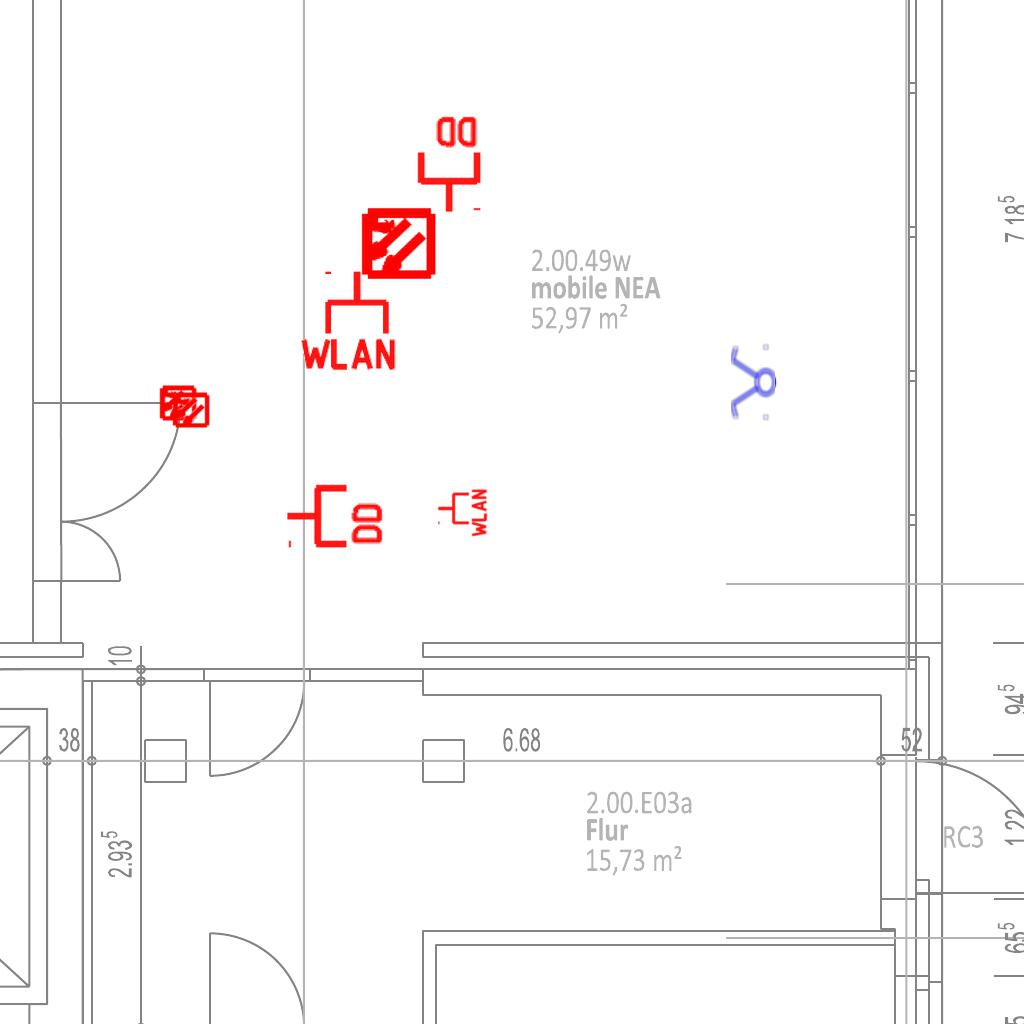Datenanschluss_zweifach: (284, 480, 387, 549), (413, 112, 482, 215)
OT_Multisensormelder_(Kombination_RMO_WMD): (340, 187, 453, 300), (149, 375, 205, 431), (162, 382, 218, 438)
Serienschalter: (729, 341, 777, 425)
WLAN: (296, 267, 400, 372), (436, 487, 488, 539)
